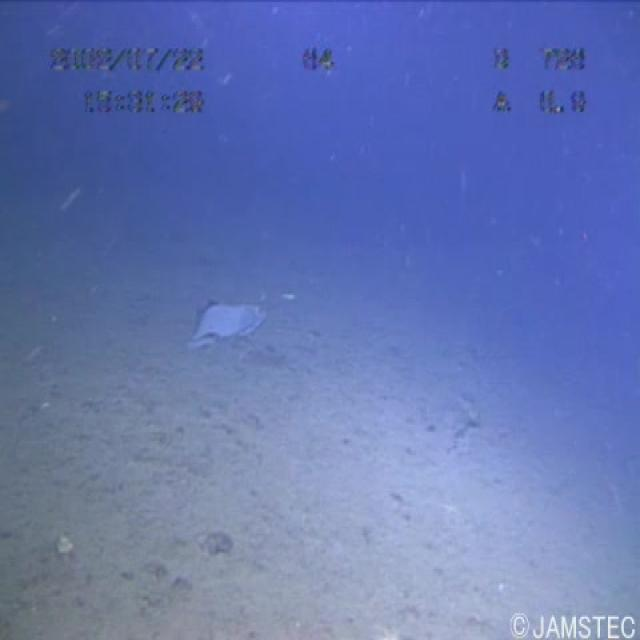plastic: (160, 276, 284, 356)
